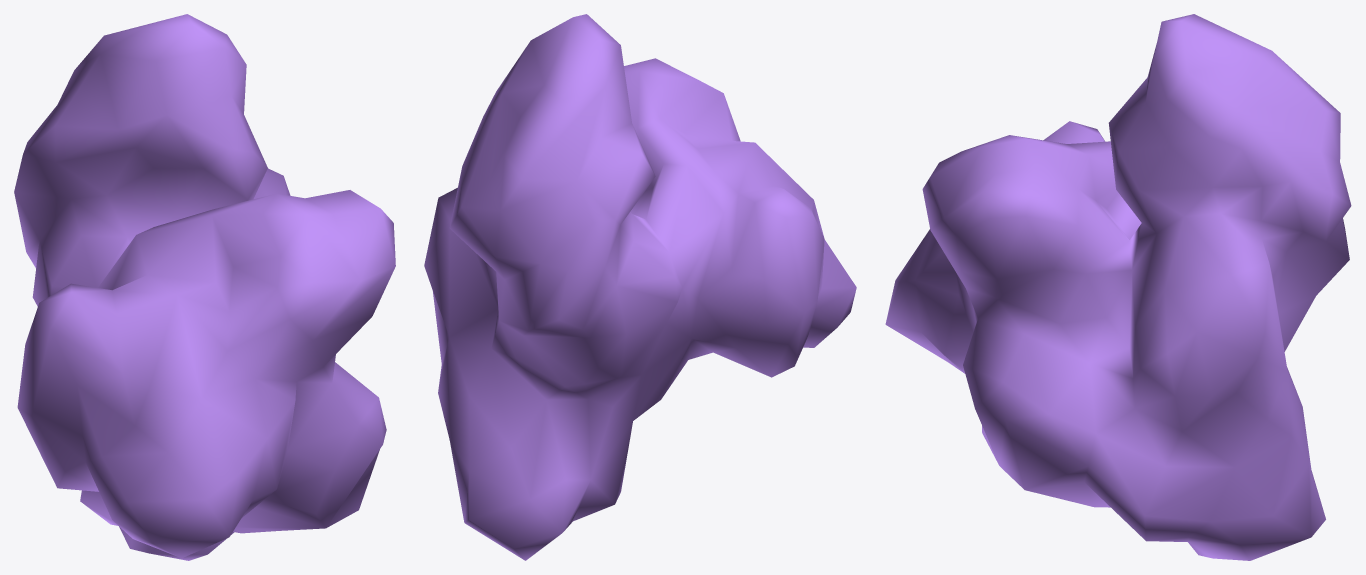
File: MiinBloodPlasma_Albumin_1e78_0_1_0.dae
3 views of the same model, side by side, from view 1: azimuth 30°, elevation 25°; view 2: azimuth 150°, elevation 25°; view 3: azimuth 270°, elevation 25° (orthographic). The views are drawn at different scales.
Visible parts, largest first — view 1: CoarseMS_1E78; view 2: CoarseMS_1E78; view 3: CoarseMS_1E78.
Part boxes in pixels (x1,y1,x2,y2): CoarseMS_1E78: (14, 14, 395, 560); CoarseMS_1E78: (424, 14, 856, 560); CoarseMS_1E78: (885, 14, 1351, 560).
Bounding box in the file's own units: 61.36 × 91.4 × 72.98.
